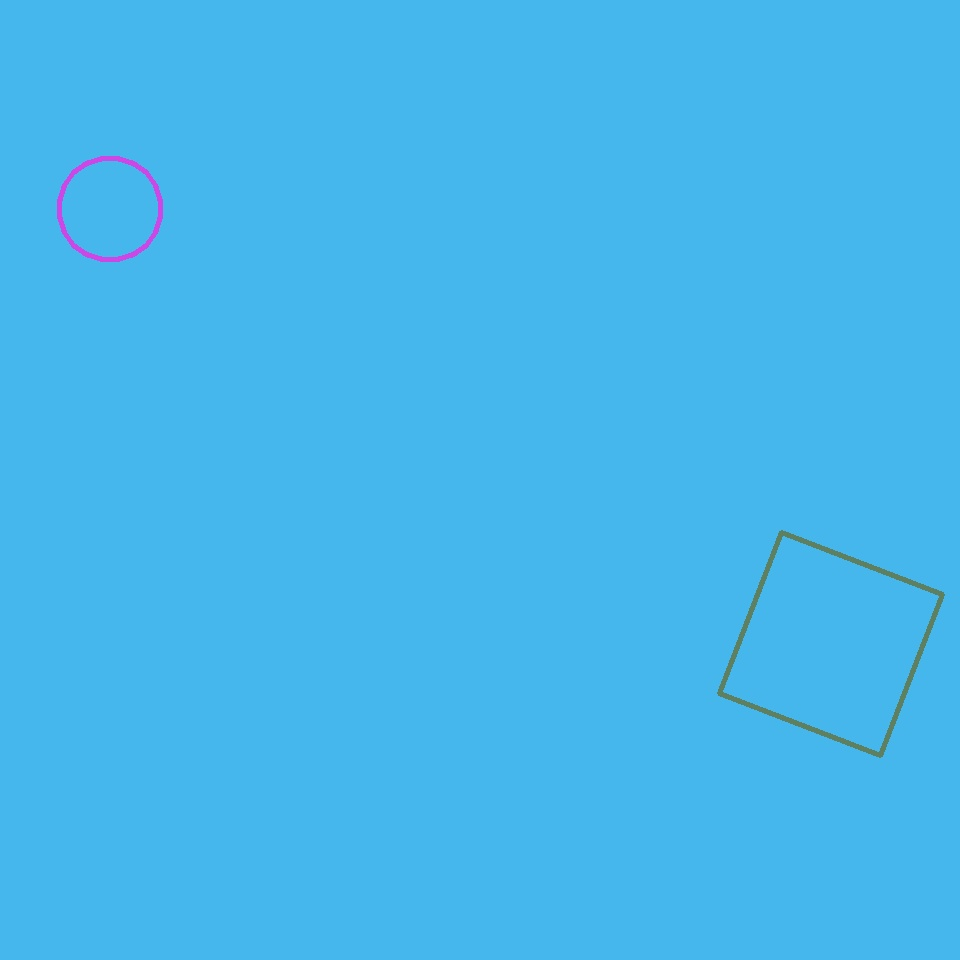square: (720, 532, 942, 755)
triangle: (59, 158, 160, 260)
